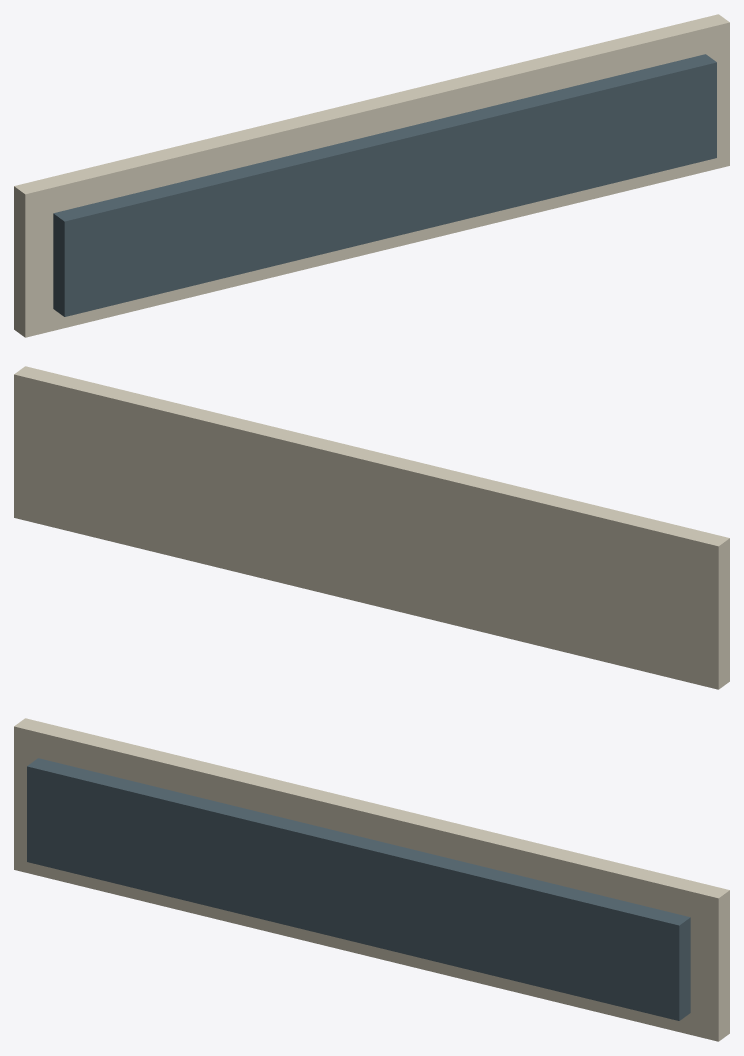
3 renders of one model, top to bottom at view 1: azimuth 30°, elevation 25°; view 2: azimuth 150°, elevation 25°; view 3: azimuth 330°, elevation 25°, orthographic.
Visible parts, largest first — view 1: background, border; view 2: border; view 3: background, border.
Part boxes in pixels (x1=…): background: x1=53, y1=54, x2=716, y2=316; border: x1=14, y1=14, x2=729, y2=337; border: x1=14, y1=366, x2=729, y2=689; background: x1=27, y1=758, x2=690, y2=1020; border: x1=14, y1=718, x2=729, y2=1041.
Bounding box in the file's own units: 1.08 × 0.21 × 0.065.
